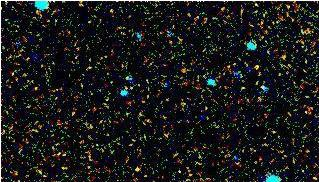star: (119, 159, 149, 182)
